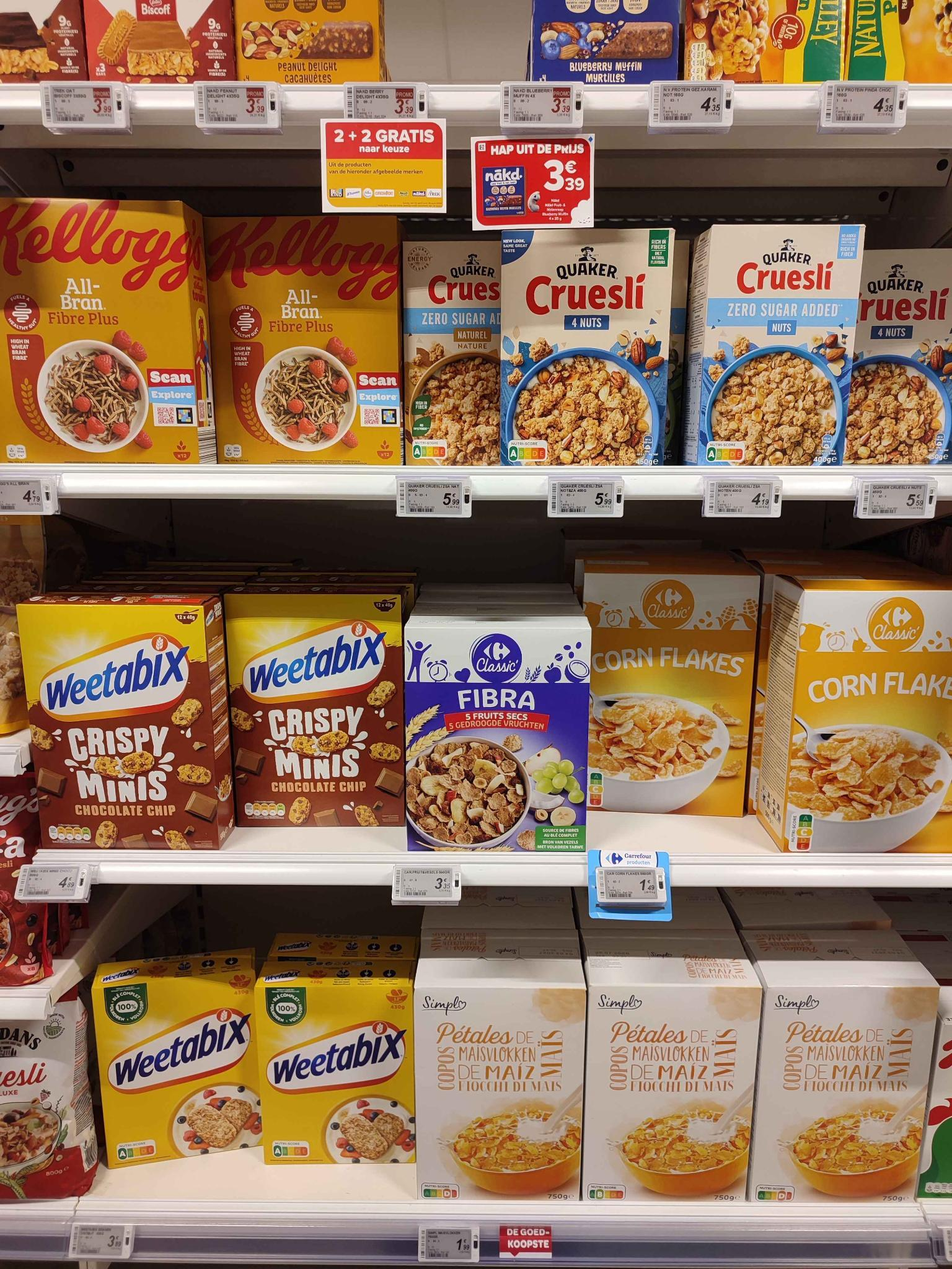nutri_A: (509, 439, 550, 460), (708, 440, 744, 462), (412, 438, 449, 458), (273, 1140, 310, 1159), (114, 1146, 158, 1160)
nutri_B: (587, 1184, 625, 1199)
nutri_C: (587, 770, 606, 806), (796, 814, 814, 850)
nutri_D: (756, 1184, 795, 1205), (422, 1183, 461, 1202)
shelf_bottom: (4, 900, 952, 1256)
shelf_middle: (1, 176, 952, 880)
shelf_top: (4, 5, 952, 122)
